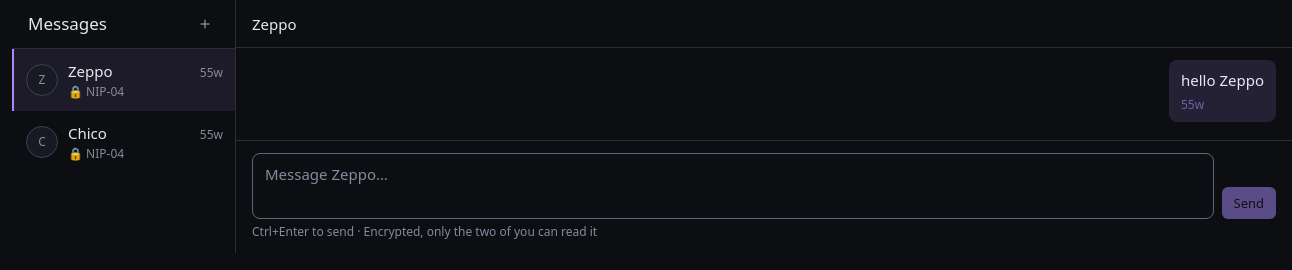
Test: Messages: each conversation is its own › does not carry what was typed for one person into the box for the next
Expected: the text "hello Zeppo" is shown, 1181,70 -> 1264,90
Type "only for Zeppo" into the text box with placeholder "Message Zeppo…" at point(733, 186), box 252,153 -> 1214,219
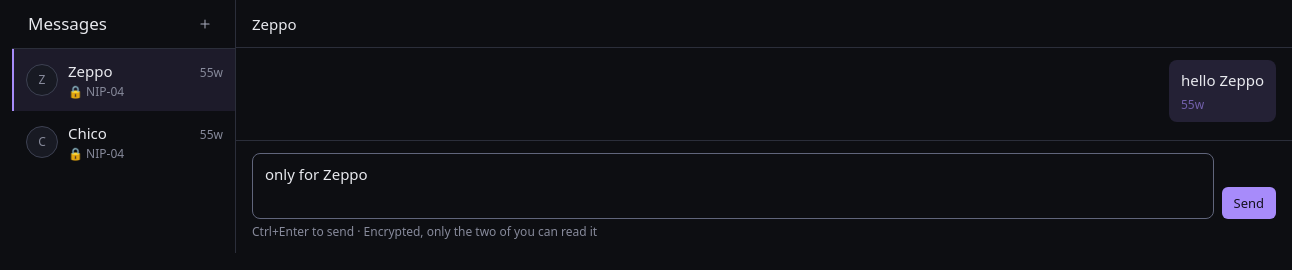
Click the button titled "Chico" at point(124, 142), box 12,111 -> 235,173
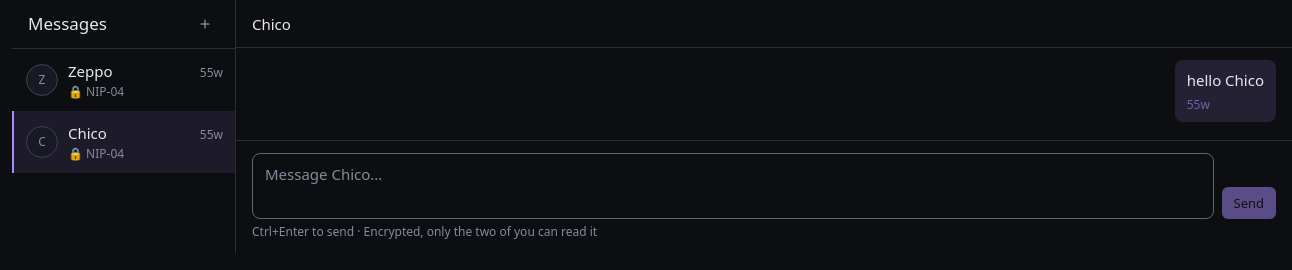
Expected: the text "hello Chico" is shown, 1187,70 -> 1264,90
